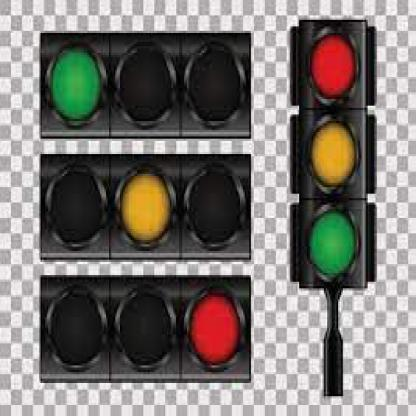traffic-light: (39, 33, 246, 136), (41, 157, 246, 256), (44, 280, 246, 376), (296, 22, 365, 280)
